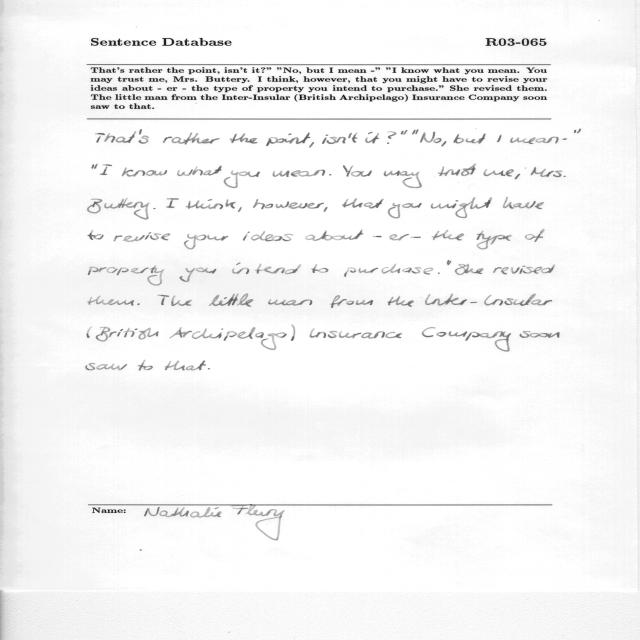word: (169, 327, 287, 350), (422, 327, 511, 352), (88, 265, 164, 286), (425, 294, 552, 306), (88, 198, 150, 220), (431, 198, 492, 219), (344, 264, 434, 277), (310, 328, 403, 339), (253, 199, 327, 212), (96, 327, 159, 342), (232, 263, 301, 275), (184, 234, 228, 250), (163, 133, 220, 145), (476, 231, 512, 250), (493, 264, 554, 275), (384, 171, 422, 188), (306, 230, 364, 241), (266, 132, 311, 146), (224, 171, 260, 188), (209, 294, 253, 307), (114, 232, 171, 242), (330, 295, 373, 308), (180, 268, 217, 283), (388, 203, 422, 218), (243, 231, 294, 241), (89, 295, 135, 306), (186, 199, 236, 209), (177, 166, 222, 177), (503, 198, 544, 210), (97, 131, 137, 143), (438, 164, 476, 176), (122, 167, 167, 177), (165, 361, 206, 371), (484, 169, 520, 180), (322, 133, 357, 144), (157, 295, 192, 306), (272, 170, 325, 177), (454, 133, 486, 144), (432, 230, 464, 241), (531, 167, 566, 177), (343, 165, 372, 177), (510, 137, 559, 144), (86, 363, 127, 371), (455, 264, 484, 275), (268, 299, 312, 306), (230, 133, 257, 144), (387, 296, 414, 307), (519, 331, 560, 338), (420, 132, 441, 143), (525, 230, 544, 242), (342, 198, 363, 208), (364, 199, 384, 209), (138, 129, 149, 144), (311, 264, 329, 273), (88, 230, 104, 240), (137, 361, 153, 371), (365, 132, 379, 143), (390, 234, 410, 241), (100, 164, 112, 175), (387, 131, 397, 144), (166, 198, 179, 208), (87, 326, 92, 338), (291, 326, 295, 341), (412, 130, 419, 135), (401, 130, 407, 135), (92, 164, 98, 169), (497, 135, 501, 142), (574, 129, 581, 133), (309, 142, 314, 147), (442, 141, 447, 146), (447, 261, 452, 266), (238, 207, 242, 212), (410, 237, 421, 238), (562, 138, 567, 140), (373, 236, 382, 237), (329, 174, 332, 176), (438, 272, 440, 274), (138, 303, 140, 305), (208, 368, 210, 370), (154, 208, 156, 209), (525, 168, 526, 169)
